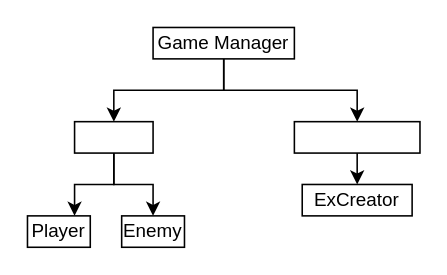
Some shapes in this 447 by 275 pixel diagram are drawn without their labels. Each missing label, with the centre of its shape:
NumGenerator: (x=356, y=136)
Person: (x=113, y=136)
